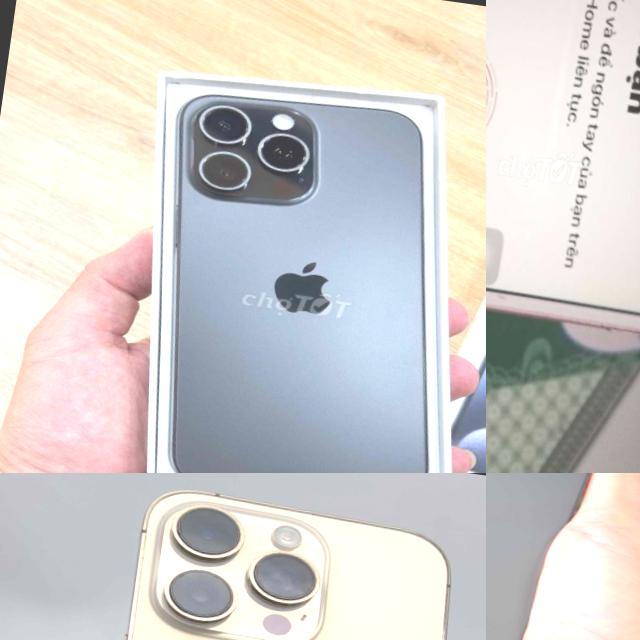gen_14: (65, 473, 486, 640), (486, 473, 637, 640)
gen_15: (103, 66, 486, 473)
gen_6: (486, 0, 640, 369)
